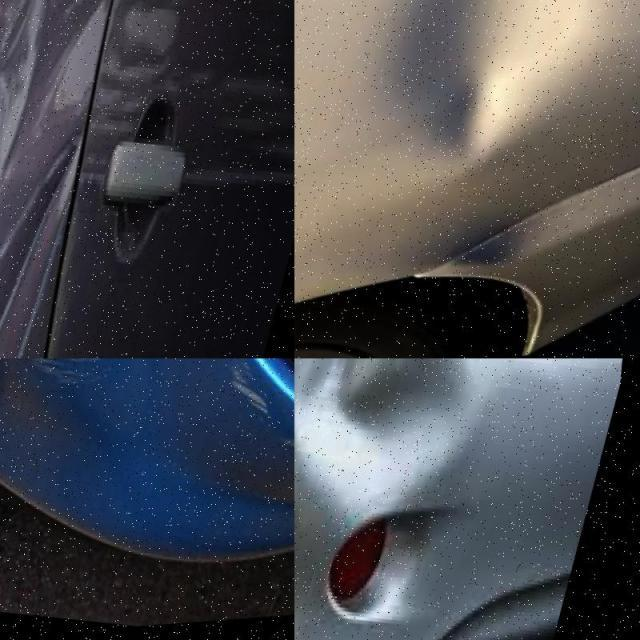car damage: (374, 0, 573, 176), (297, 353, 487, 512)
